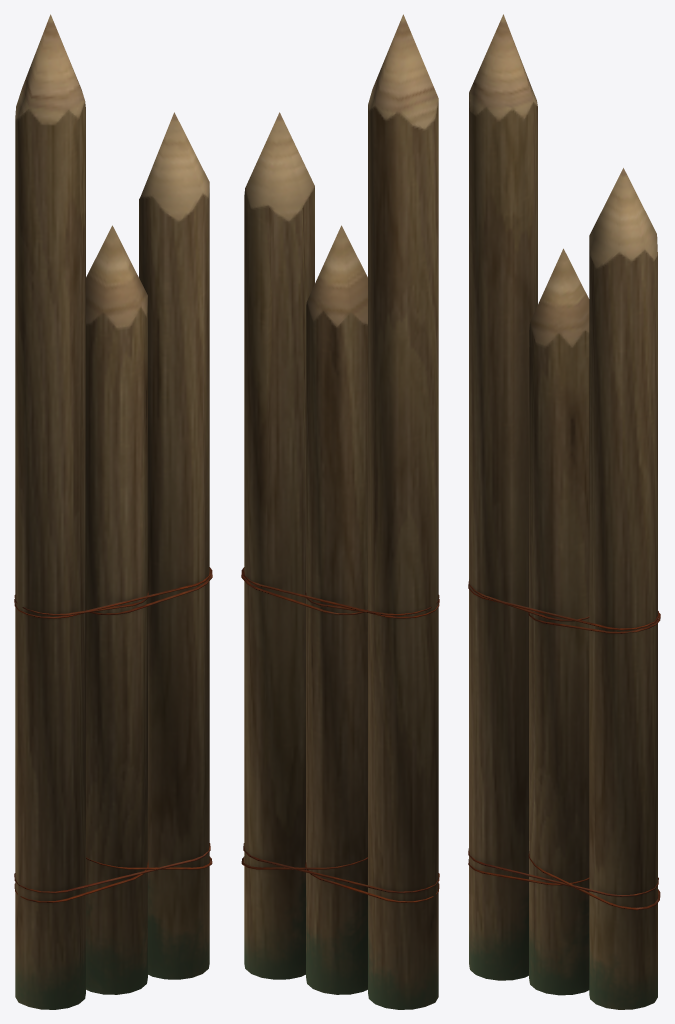
The model's file is sb_obj_outdoor015_WoodWall01c.fbx.
The picture shows the model from 3 angles, left to right: view 1: azimuth 30°, elevation 25°; view 2: azimuth 150°, elevation 25°; view 3: azimuth 330°, elevation 25°; orthographic projection. The views are drawn at different scales.
Parts seen in each view (by area): view 1: sb_obj_outdoor015_WoodWall01c, wire_01c; view 2: sb_obj_outdoor015_WoodWall01c, wire_01c; view 3: sb_obj_outdoor015_WoodWall01c, wire_01c.
Part boxes in pixels (x1,y1,x2,y2): sb_obj_outdoor015_WoodWall01c: (15, 14, 209, 1009); wire_01c: (14, 567, 212, 902); sb_obj_outdoor015_WoodWall01c: (244, 14, 438, 1009); wire_01c: (241, 567, 439, 902); sb_obj_outdoor015_WoodWall01c: (469, 14, 657, 1009); wire_01c: (468, 579, 660, 910).
Size of the model in its own units: 1.01 by 5 by 0.348.
